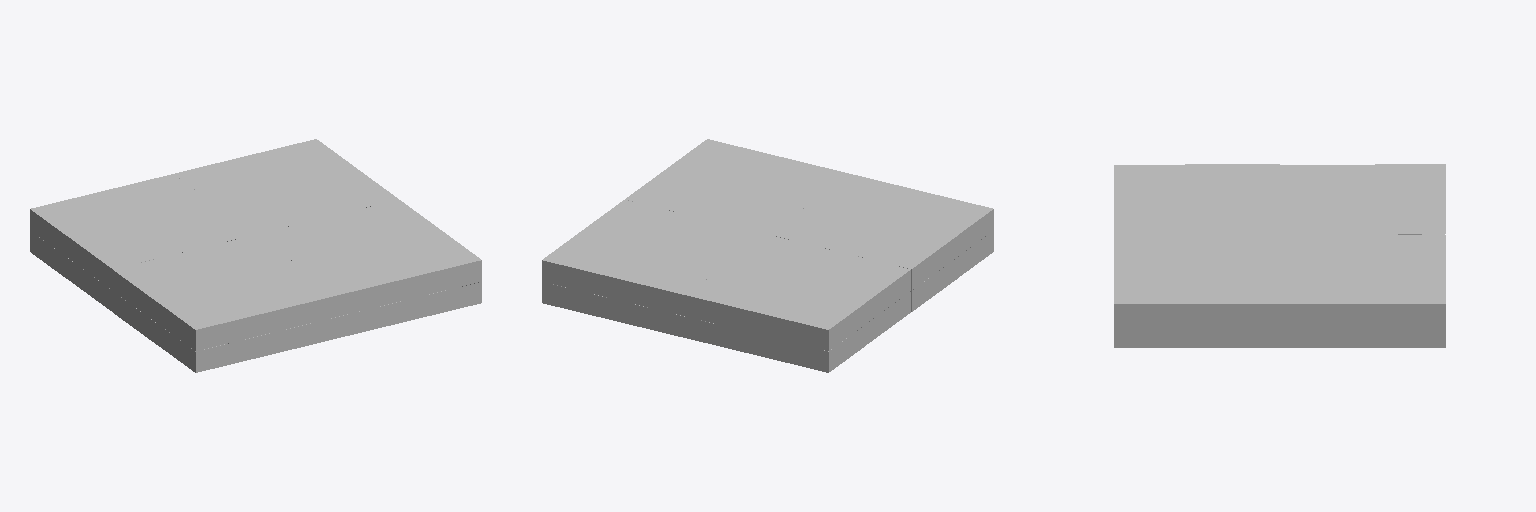
Rendered from prueba2.obj.
3 views of the same model, side by side, from view 1: azimuth 30°, elevation 25°; view 2: azimuth 150°, elevation 25°; view 3: azimuth 270°, elevation 25° (orthographic).
Parts seen in each view (by area): view 1: Cube.021; view 2: Cube.021; view 3: Cube.021.
Part boxes in pixels (x1,y1,x2,y2): Cube.021: (30,139,481,372); Cube.021: (542,139,993,372); Cube.021: (1114,164,1445,347).
Size of the model in its own units: 0.8752 by 0.1254 by 0.8757.